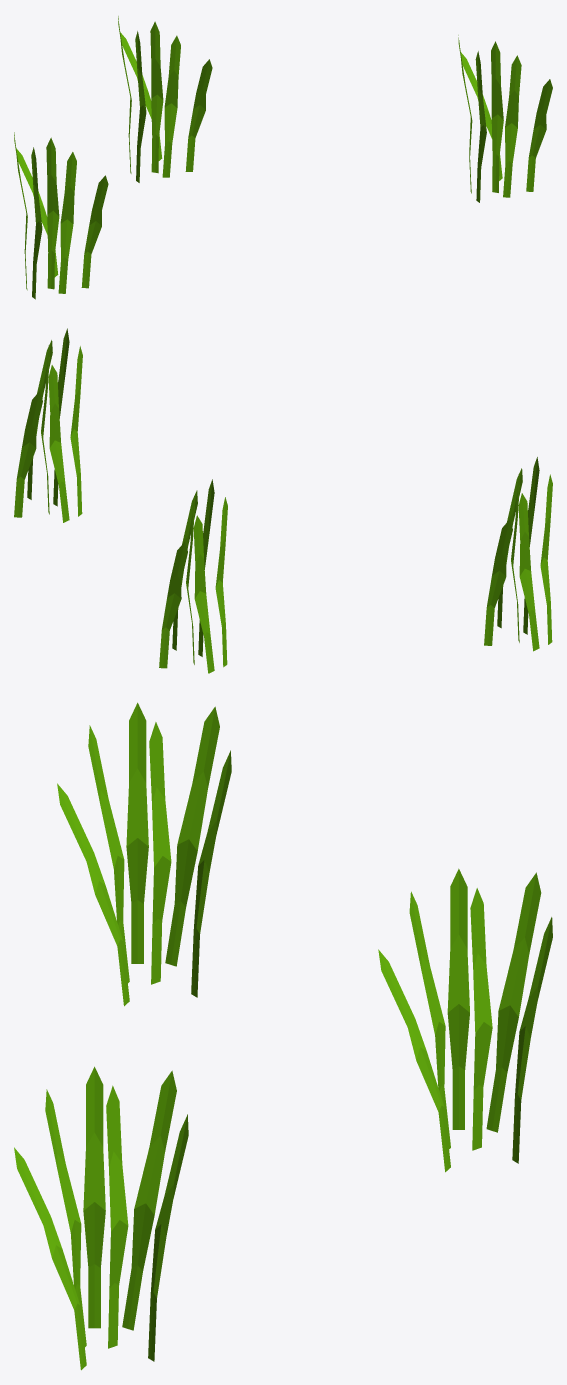
Rendered from cimaq.fbx.
3 views of the same model, one above another, from view 1: azimuth 30°, elevation 25°; view 2: azimuth 150°, elevation 25°; view 3: azimuth 270°, elevation 25° (orthographic). The views are drawn at different scales.
Parts seen in each view (by area): view 1: çimaq; view 2: çimaq; view 3: çimaq.
Boxes of the visible parts, box(x1,y1,x2,y2) form: çimaq: box(14, 16, 552, 299); çimaq: box(14, 328, 552, 673); çimaq: box(14, 702, 552, 1370).
Bounding box in the file's own units: 150 × 44.62 × 83.27.
